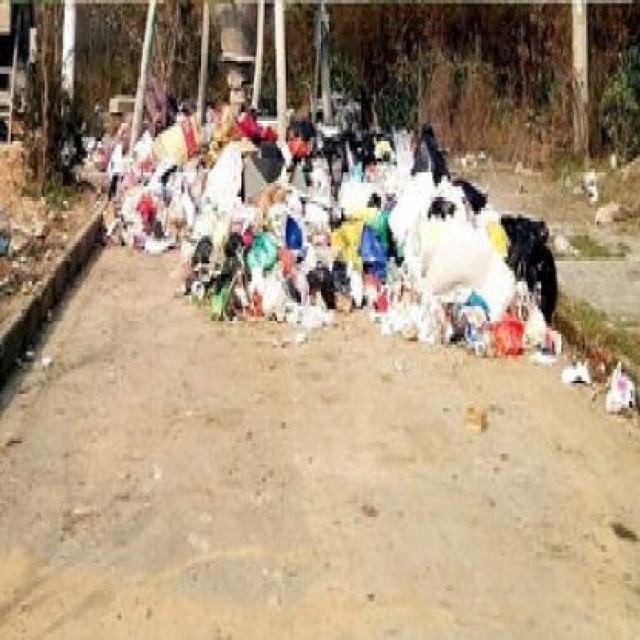garbage: (99, 95, 406, 316), (302, 148, 552, 370)
